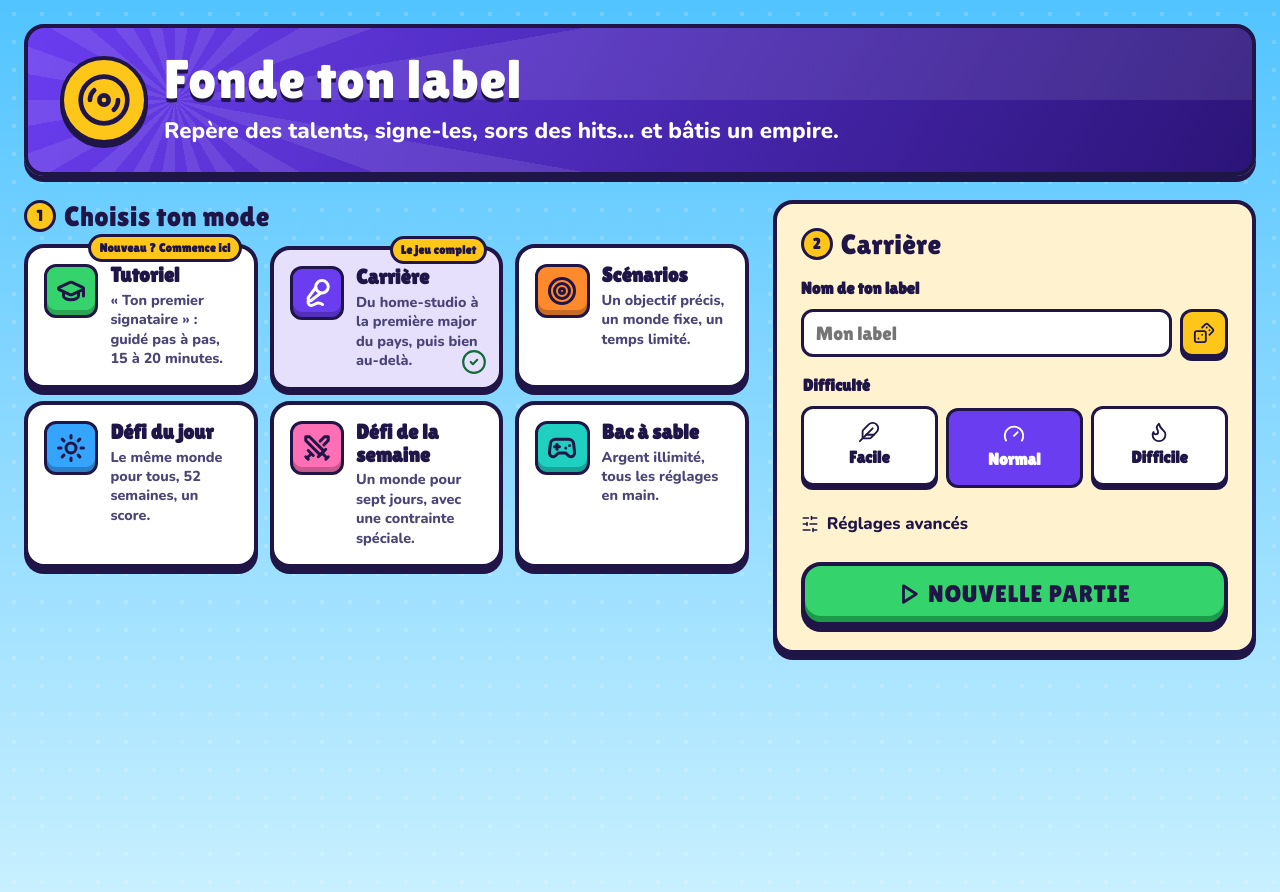
Scenario: écran de lancement › le dé propose un nom de label, et la partie démarre sous ce nom
Expected: the button "Nouvelle partie" is enabled, top-left (801, 562), bottom-right (1228, 626)
Click the button named "Proposer un nom au hasard".
click(1204, 333)  # box top-left (1180, 309), bottom-right (1228, 357)
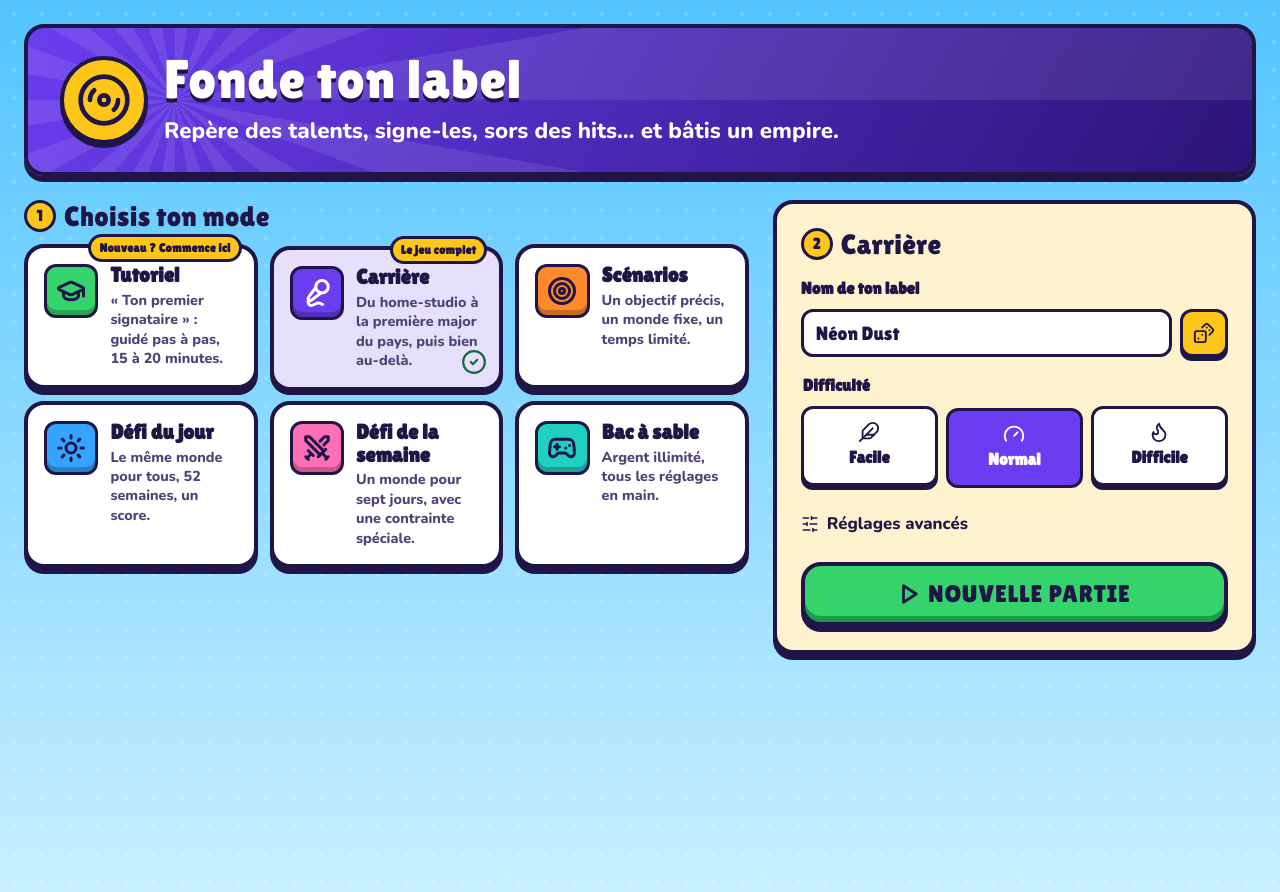
Replace the text in the field labelled "Nom de ton label" with "Velours Records" at (986, 333), box top-left (801, 309), bottom-right (1172, 357)
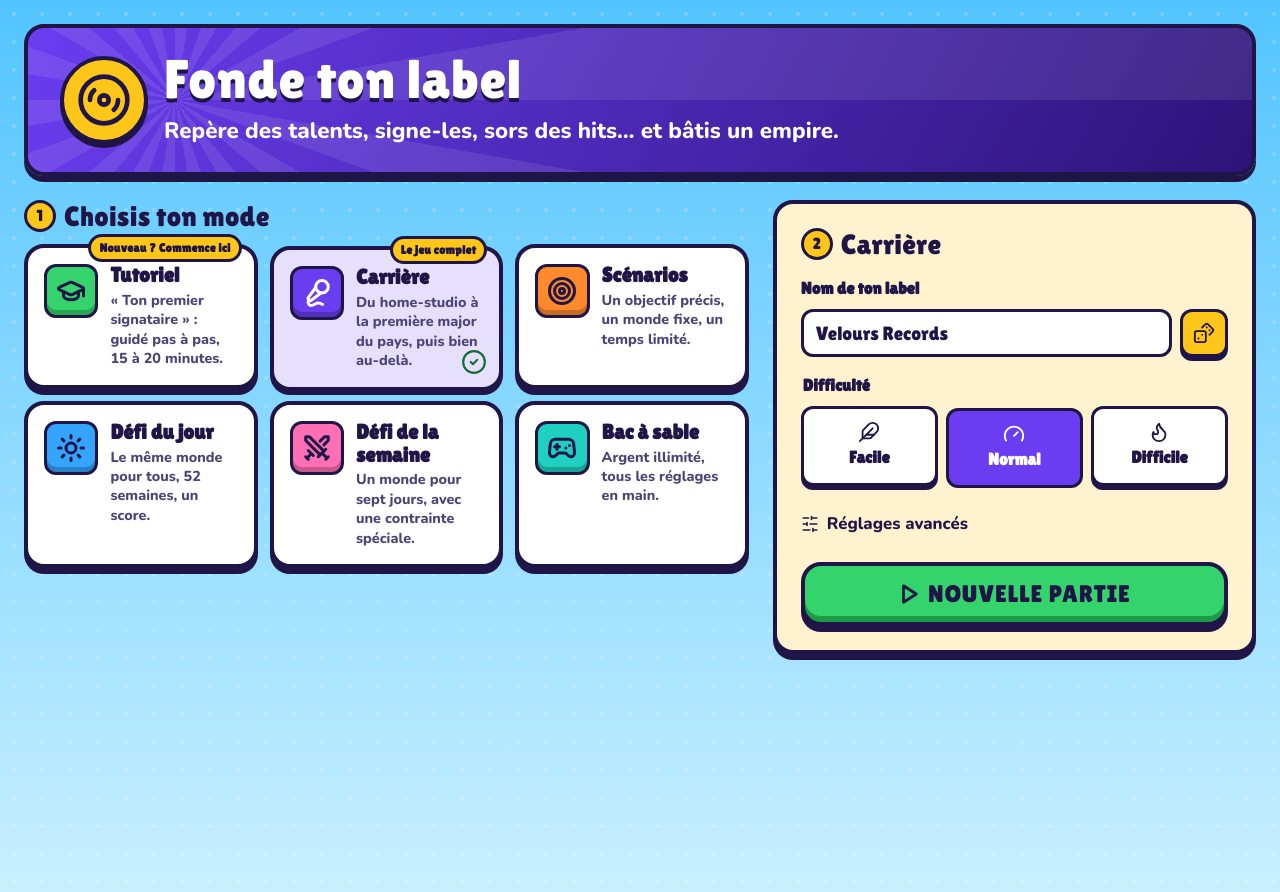
Click the button "Nouvelle partie".
click(1014, 594)  # box top-left (801, 562), bottom-right (1228, 626)
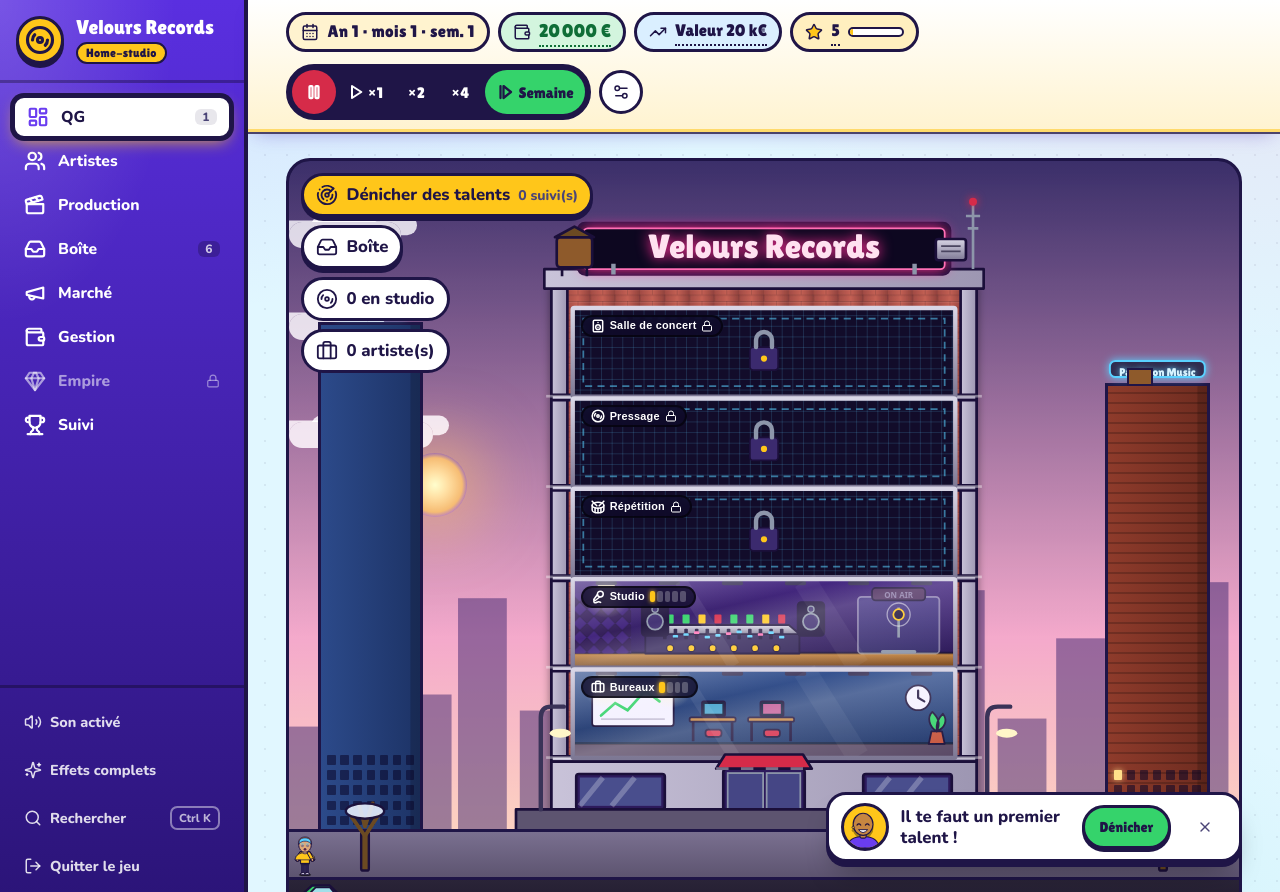
Expected: the text with class "label-bar__name" reads "Velours Records", top-left (76, 16), bottom-right (214, 38)
